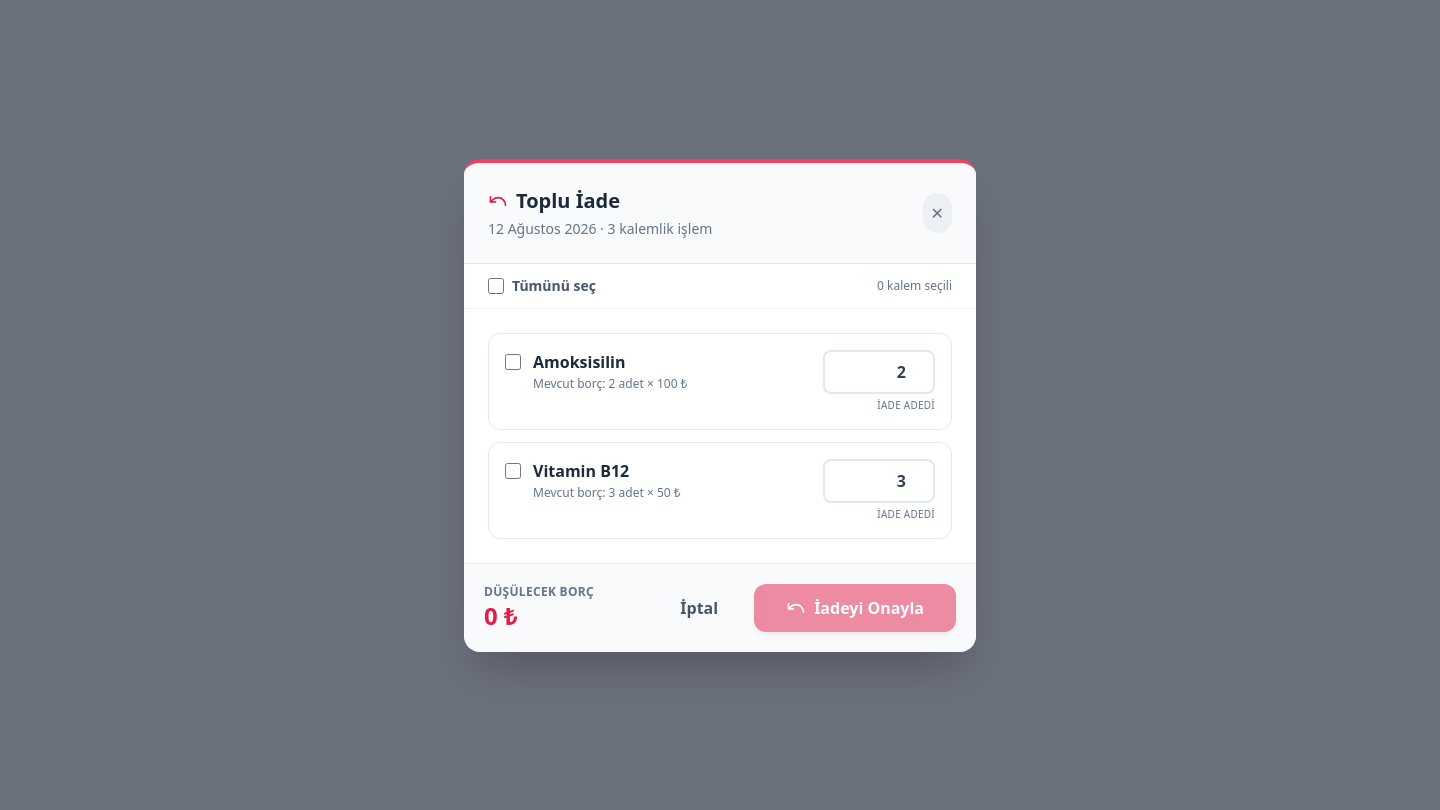
BatchReturnModal › mevcut borctan fazla adet girilirse avans uyarisi gosterir
Replace the text in the number field next to "100 ₺" with "5" at (879, 372), box 823,350 -> 935,394
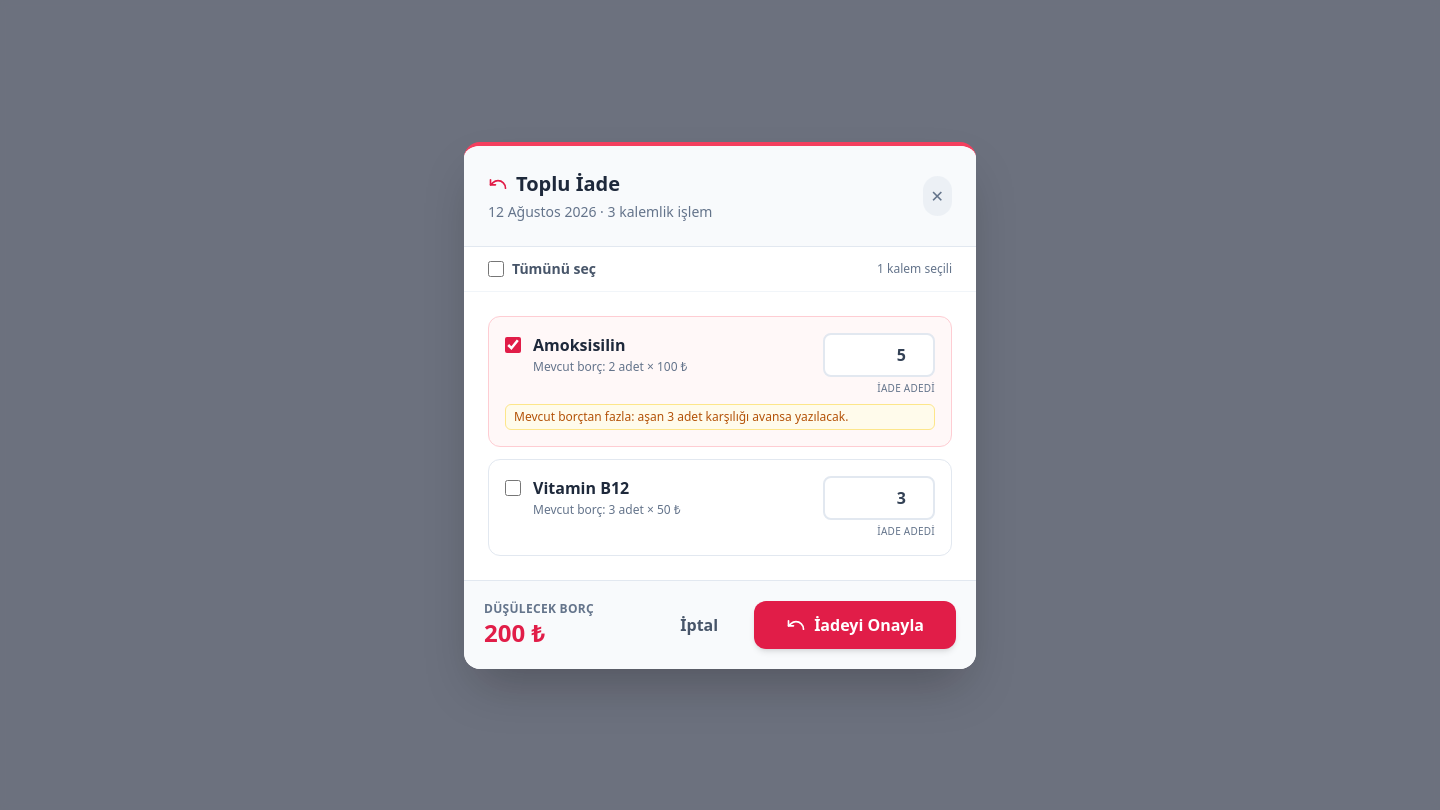
Check: the text "avansa yazılacak" is shown, box 674,408 -> 848,424
Check: the button "İadeyi Onayla" is enabled, box 754,600 -> 956,648
